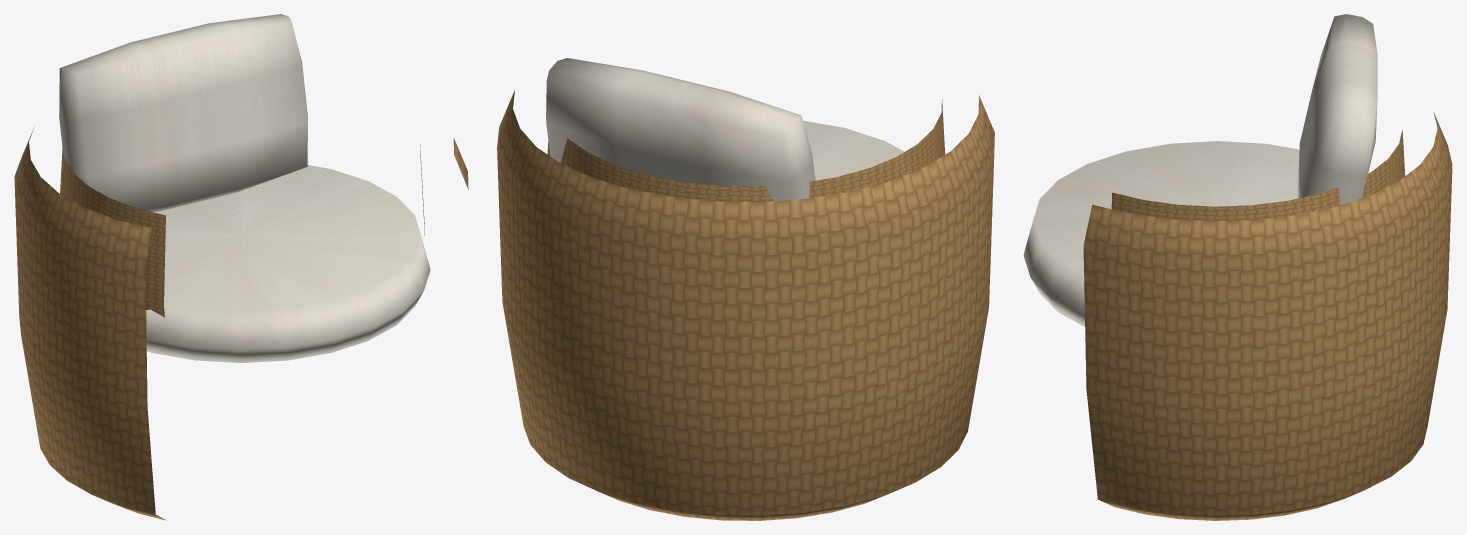
The model's file is chair.glb.
3 views of the same model, side by side, from view 1: azimuth 30°, elevation 25°; view 2: azimuth 150°, elevation 25°; view 3: azimuth 270°, elevation 25° (orthographic). The views are drawn at different scales.
Parts seen in each view (by area): view 1: resort; view 2: resort; view 3: resort.
Part boxes in pixels (box(x1,y1,x2,y2)): resort: box(14, 14, 468, 520); resort: box(497, 58, 994, 520); resort: box(1023, 14, 1452, 520).
Bounding box in the file's own units: 0.9399 × 0.8483 × 0.86.
2 materials, 2 textured.
